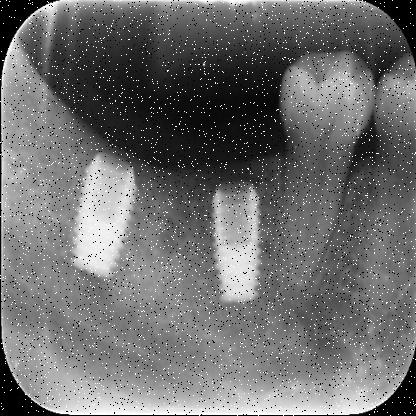Bicon: (67, 158, 136, 278), (206, 177, 260, 309)
